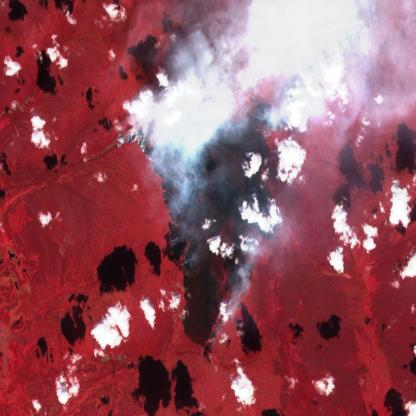fire: (197, 269, 254, 359), (244, 94, 306, 152), (116, 117, 165, 169), (163, 233, 197, 280)
